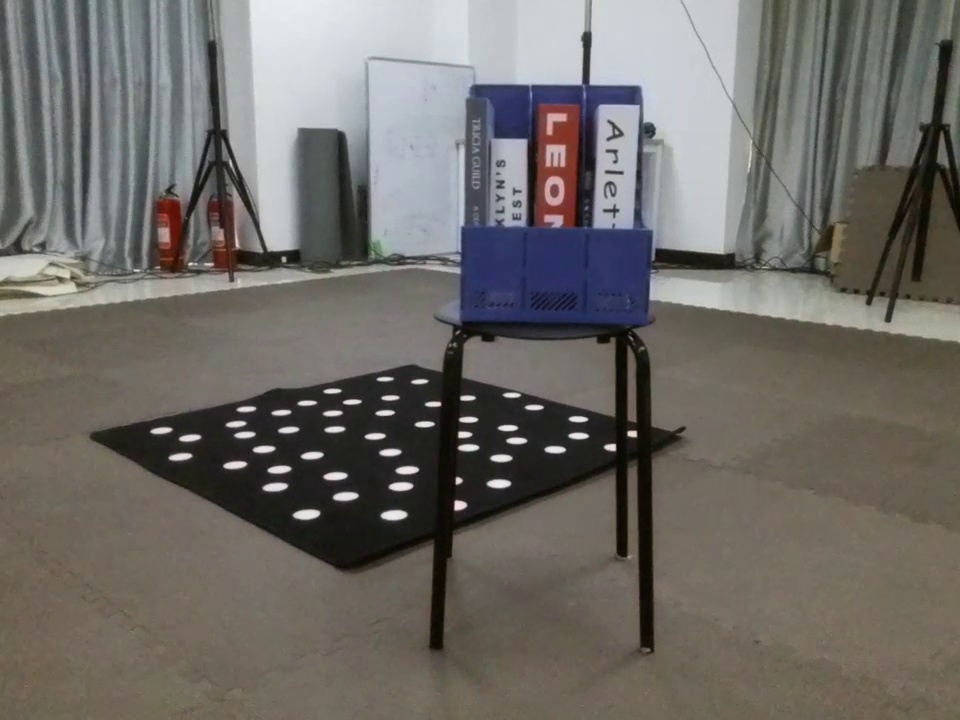files: (451, 72, 658, 331)
